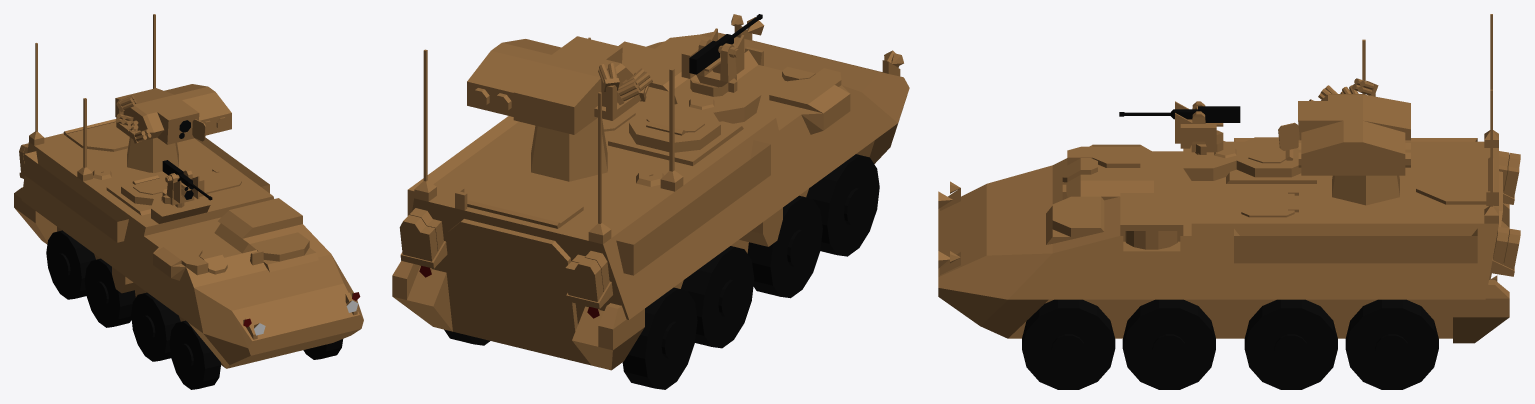
Rendered from Stryker ATGM_NATO-Desert.fbx.
3 renders of one model, left to right at view 1: azimuth 30°, elevation 25°; view 2: azimuth 150°, elevation 25°; view 3: azimuth 270°, elevation 25°, orthographic. The views are drawn at different scales.
Visible parts, largest first — view 1: Stryker_Body, Stryker_Turret, Stryker_Turret_Rocket-Launcher, Stryker_Wheel-Forward_R-1, Stryker_Wheel-Back_R-2, Stryker_Wheel-Forward_R-2, Stryker_Wheel-Back_R-1, Stryker_Machine-Gun_Turret, Stryker_Wheel-Forward_L-1, Stryker_Machine-Gun; view 2: Stryker_Body, Stryker_Turret, Stryker_Turret_Rocket-Launcher, Stryker_Wheel-Back_R-2, Stryker_Wheel-Back_R-1, Stryker_Wheel-Forward_R-1, Stryker_Wheel-Forward_R-2, Stryker_Machine-Gun_Turret, Stryker_Machine-Gun; view 3: Stryker_Body, Stryker_Turret_Rocket-Launcher, Stryker_Wheel-Back_L-1, Stryker_Wheel-Back_L-2, Stryker_Wheel-Forward_L-2, Stryker_Wheel-Forward_L-1, Stryker_Turret, Stryker_Machine-Gun_Turret, Stryker_Machine-Gun.
Boxes of the visible parts, bbox=[...] form: Stryker_Body: bbox=[14, 14, 363, 368]; Stryker_Turret: bbox=[115, 88, 178, 172]; Stryker_Turret_Rocket-Launcher: bbox=[144, 84, 231, 144]; Stryker_Wheel-Forward_R-1: bbox=[169, 320, 220, 389]; Stryker_Wheel-Back_R-2: bbox=[46, 230, 95, 299]; Stryker_Wheel-Forward_R-2: bbox=[131, 292, 180, 361]; Stryker_Wheel-Back_R-1: bbox=[84, 258, 135, 327]; Stryker_Machine-Gun_Turret: bbox=[162, 169, 204, 207]; Stryker_Wheel-Forward_L-1: bbox=[303, 339, 342, 359]; Stryker_Machine-Gun: bbox=[162, 160, 212, 200]; Stryker_Body: bbox=[392, 14, 909, 370]; Stryker_Turret: bbox=[513, 59, 652, 181]; Stryker_Turret_Rocket-Launcher: bbox=[467, 36, 622, 116]; Stryker_Wheel-Back_R-2: bbox=[622, 287, 697, 389]; Stryker_Wheel-Back_R-1: bbox=[681, 246, 754, 348]; Stryker_Wheel-Forward_R-1: bbox=[806, 154, 879, 256]; Stryker_Wheel-Forward_R-2: bbox=[747, 195, 822, 298]; Stryker_Machine-Gun_Turret: bbox=[681, 28, 744, 96]; Stryker_Machine-Gun: bbox=[689, 14, 762, 74]; Stryker_Body: bbox=[938, 14, 1520, 343]; Stryker_Turret_Rocket-Launcher: bbox=[1278, 101, 1410, 175]; Stryker_Wheel-Back_L-1: bbox=[1244, 299, 1337, 389]; Stryker_Wheel-Back_L-2: bbox=[1345, 299, 1438, 389]; Stryker_Wheel-Forward_L-2: bbox=[1122, 299, 1215, 389]; Stryker_Wheel-Forward_L-1: bbox=[1022, 299, 1115, 389]; Stryker_Turret: bbox=[1309, 78, 1410, 205]; Stryker_Machine-Gun_Turret: bbox=[1175, 101, 1223, 154]; Stryker_Machine-Gun: bbox=[1119, 106, 1240, 122].
Bounding box in the file's own units: 272 × 380 × 683.
